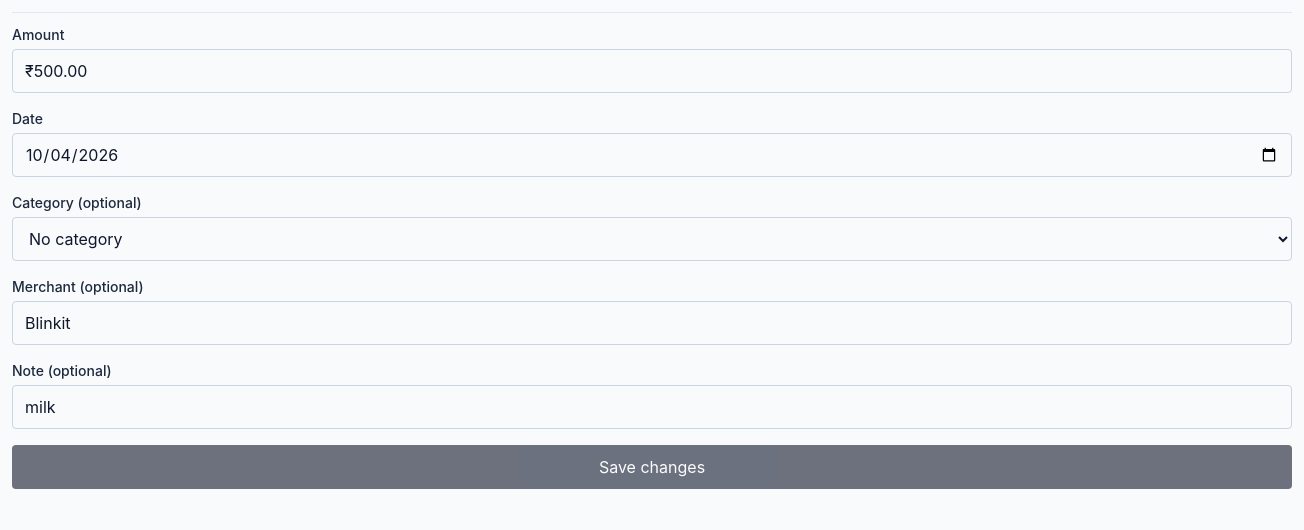
TransactionEditor › refuses an amount that is not money, and sends nothing
The image size is (1304, 530).
Step 1. Replace the text in the field labelled "Amount" with "10.005" → (652, 71), box [12,49,1292,93]
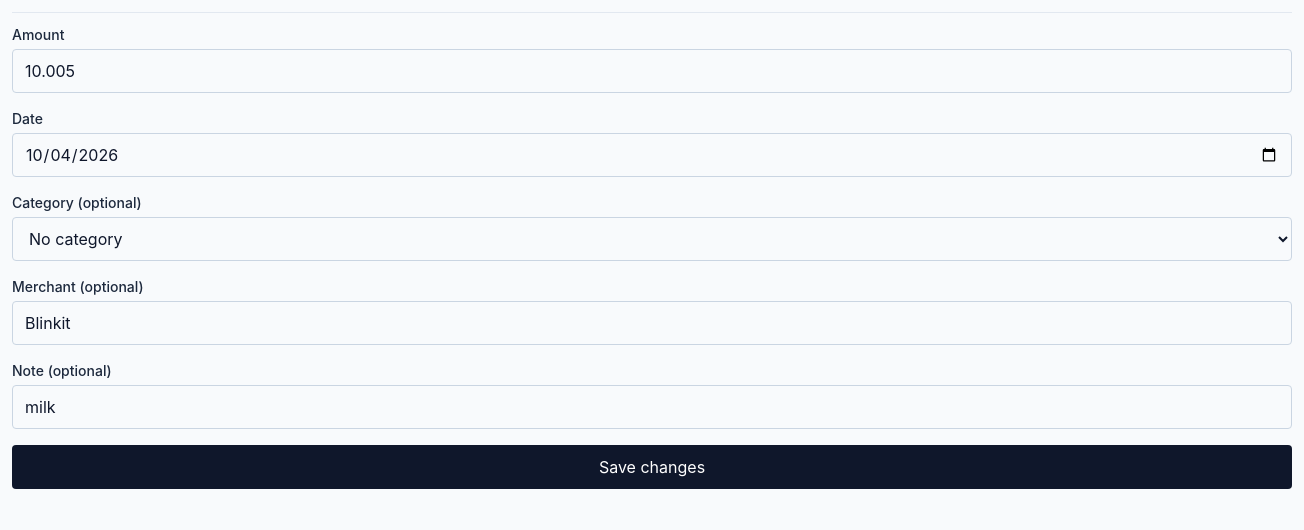
Step 2. Click the button "Save changes" → click(652, 467), box [12,445,1292,489]
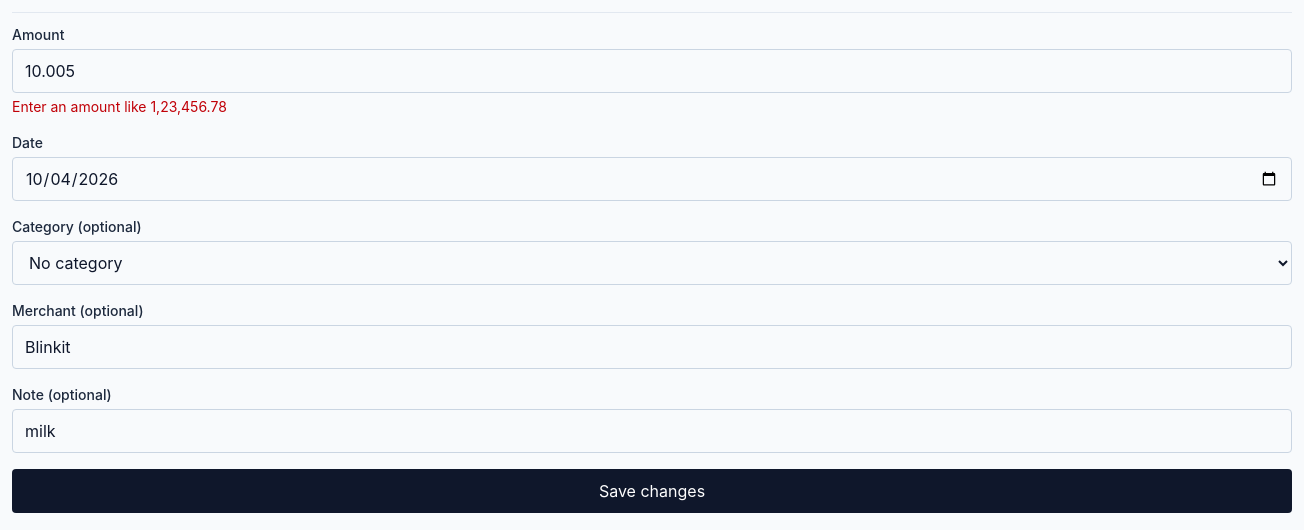
Result: the text "Enter an amount like 1,23,456.78" is shown at [12,98,227,115]
